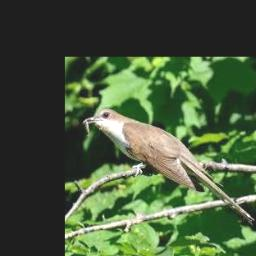Cuckoo: (84, 108, 255, 225)
